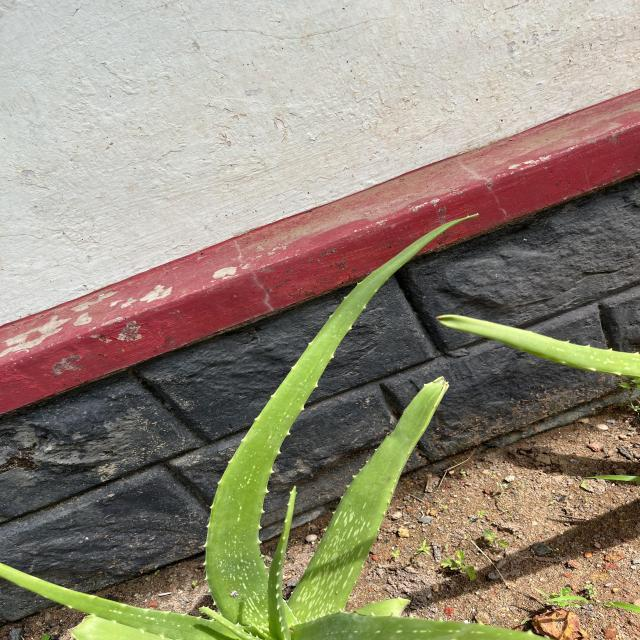Aloe vera: (288, 372, 453, 614)
